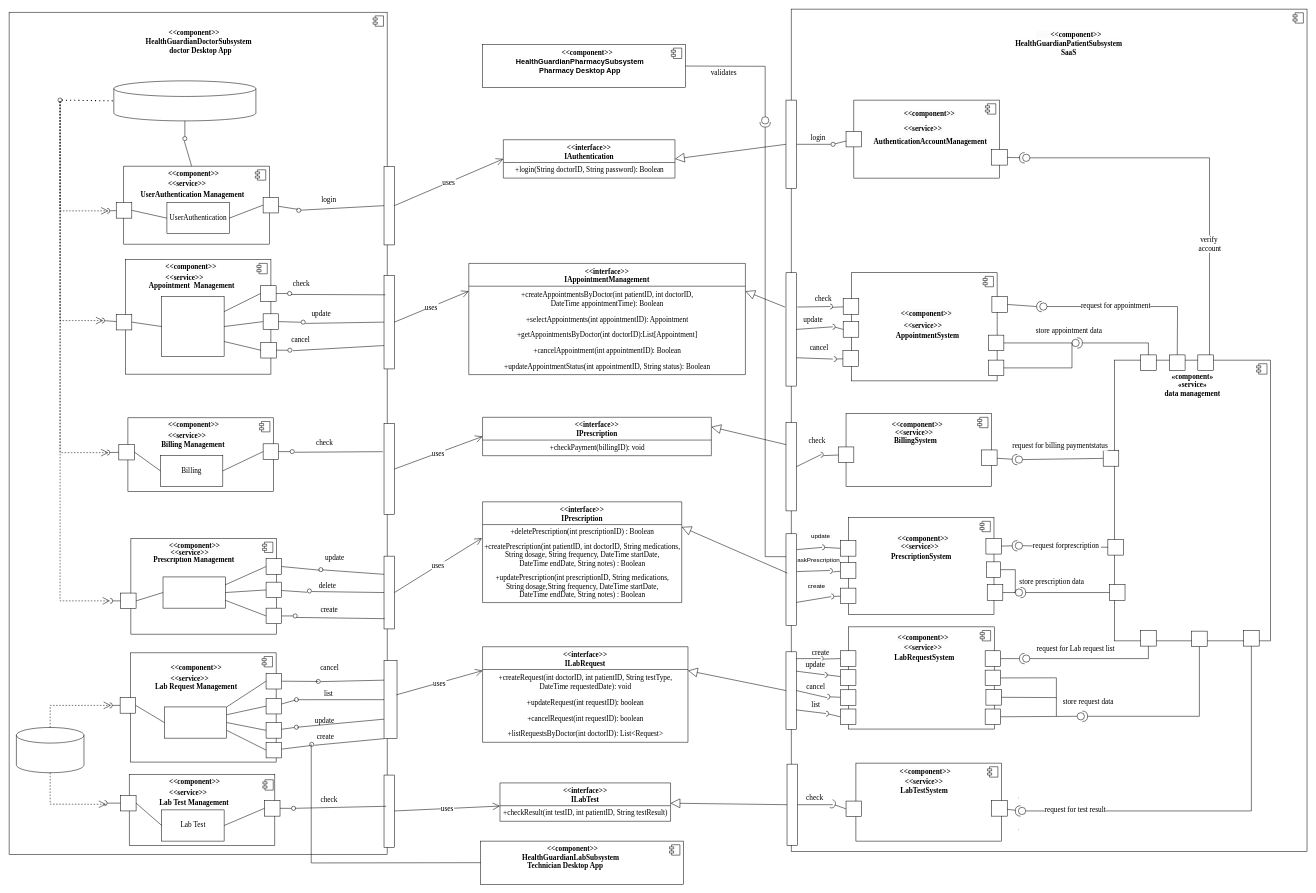
This 1316x893 diagram has some shape labels left out. Each missing label, with the centre of its shape:
"Appointment" goes at point 192,326.
"doctor data" goes at point 184,100.
"Lab data" goes at point 50,750.
"Lab Request" goes at point 195,722.
"Prescription" goes at point 193,592.
